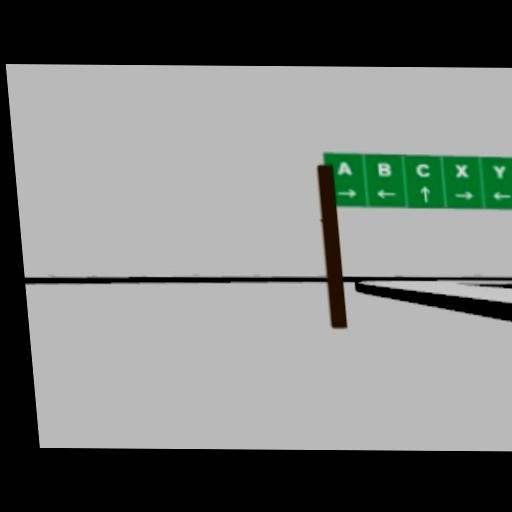A: (334, 161, 352, 176)
B: (377, 161, 391, 176)
C: (414, 161, 432, 177)
Left: (492, 191, 512, 202), (376, 189, 398, 199)
Right: (336, 187, 357, 198), (454, 191, 474, 199)
Straight: (420, 186, 432, 204)
X: (454, 164, 468, 177)
Y: (491, 164, 507, 179)
